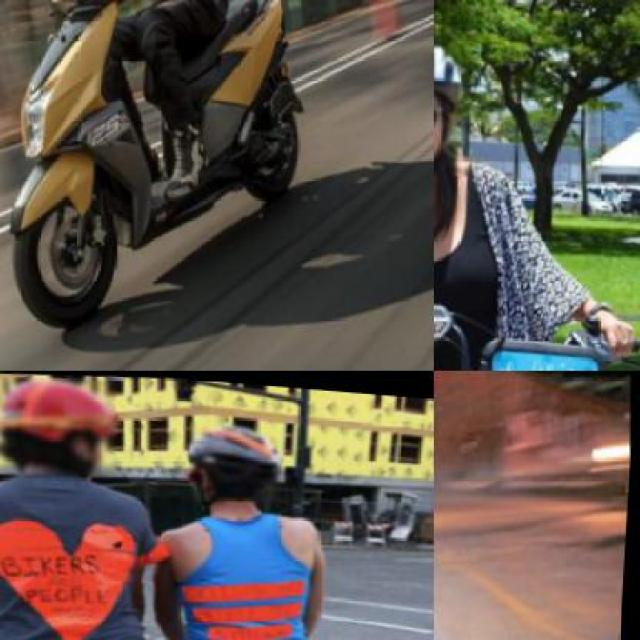With Helmet: (0, 371, 123, 480), (186, 409, 289, 502), (434, 17, 480, 175)
